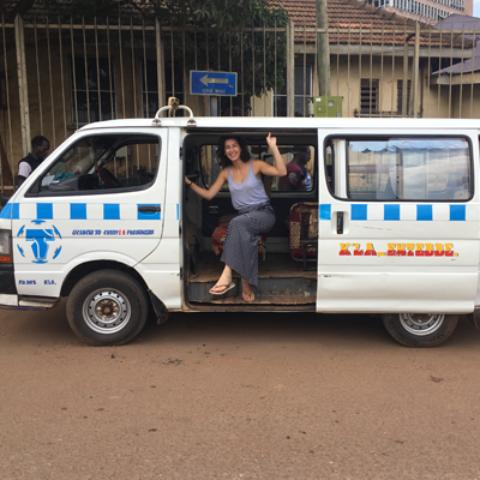van: (0, 95, 478, 346)
